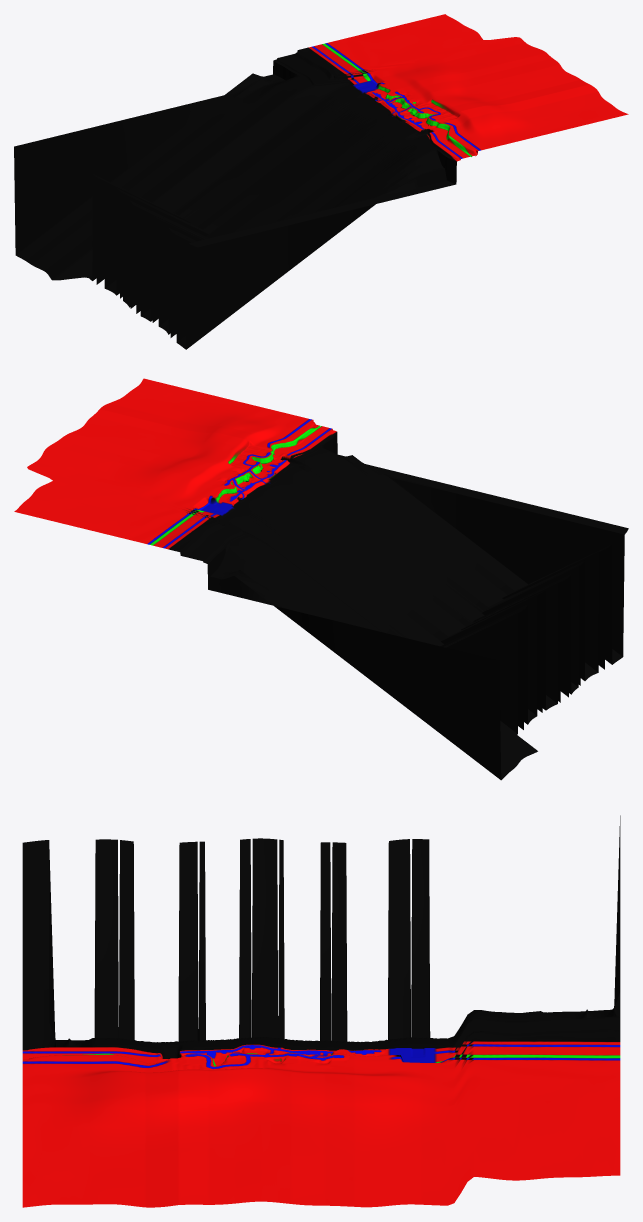
The model's file is terrain.glb.
3 views of the same model, one above another, from view 1: azimuth 30°, elevation 25°; view 2: azimuth 150°, elevation 25°; view 3: azimuth 270°, elevation 25° (orthographic). The views are drawn at different scales.
Visible parts, largest first — view 1: Solid_Y26_Export_Ref_L24_Landform; view 2: Solid_Y26_Export_Ref_L24_Landform; view 3: Solid_Y26_Export_Ref_L24_Landform.
Part boxes in pixels (bbox=[...]): Solid_Y26_Export_Ref_L24_Landform: bbox=[14, 14, 628, 349]; Solid_Y26_Export_Ref_L24_Landform: bbox=[14, 378, 628, 780]; Solid_Y26_Export_Ref_L24_Landform: bbox=[22, 815, 620, 1207].
Size of the model in its own units: 325 by 94.14 by 180.
1 material, 1 textured.
